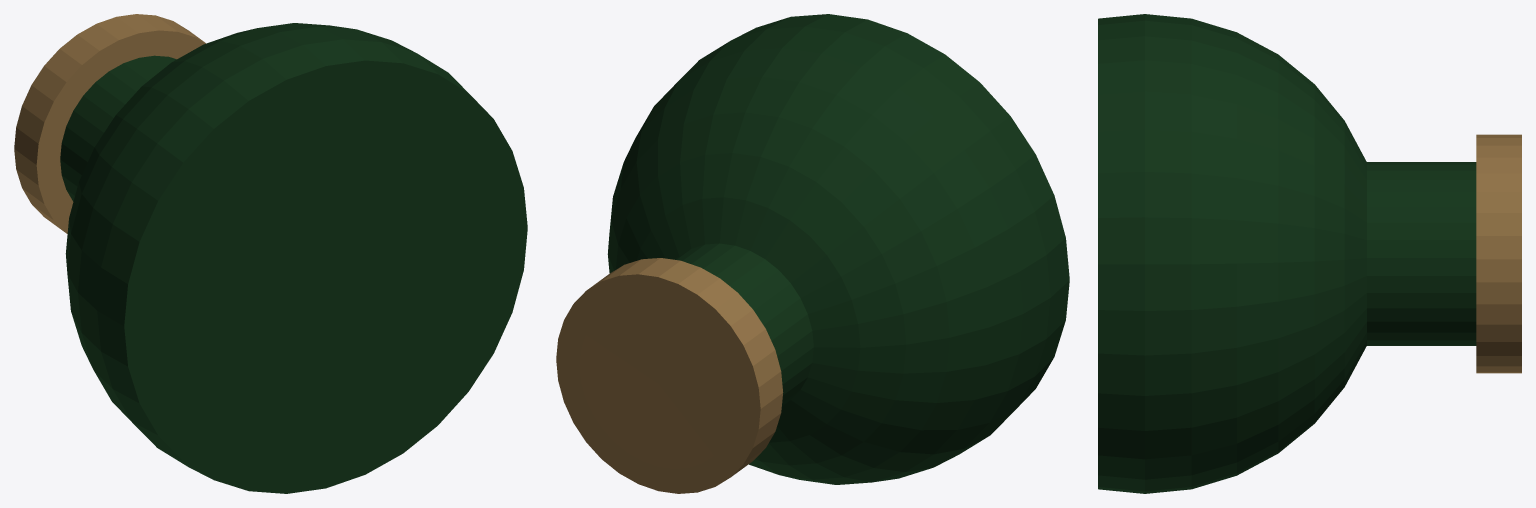
File: ClockworkPixie_Test_Potion.fbx
The picture shows the model from 3 angles, left to right: view 1: azimuth 30°, elevation 25°; view 2: azimuth 150°, elevation 25°; view 3: azimuth 270°, elevation 25°; orthographic projection.
Parts seen in each view (by area): view 1: Potion; view 2: Potion; view 3: Potion.
Part boxes in pixels (x1,y1,x2,y2): Potion: [14, 14, 527, 493]; Potion: [556, 14, 1069, 493]; Potion: [1098, 14, 1521, 493].
Bounding box in the file's own units: 176 × 200 × 200.
